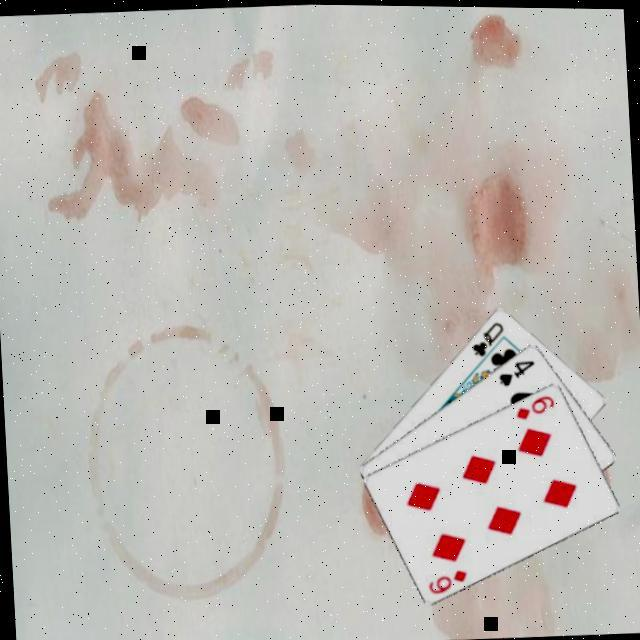4S: (497, 356, 541, 390)
6D: (426, 566, 474, 598), (514, 391, 560, 424)
QC: (470, 318, 510, 360)
